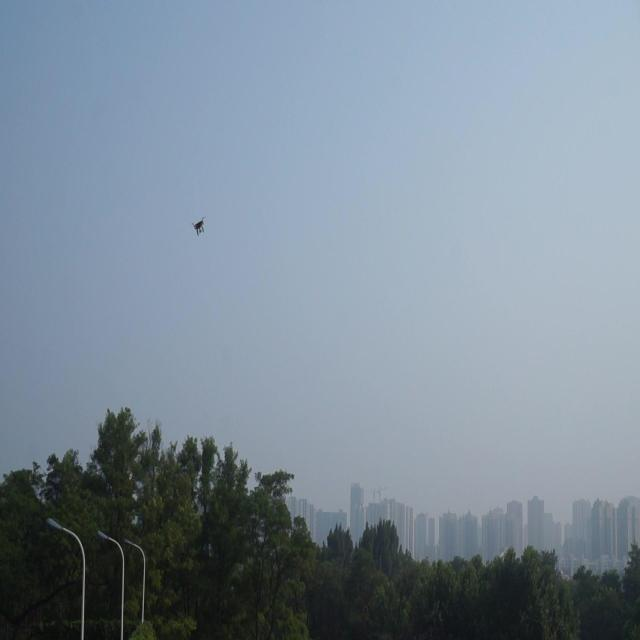drone: (190, 209, 209, 240)
